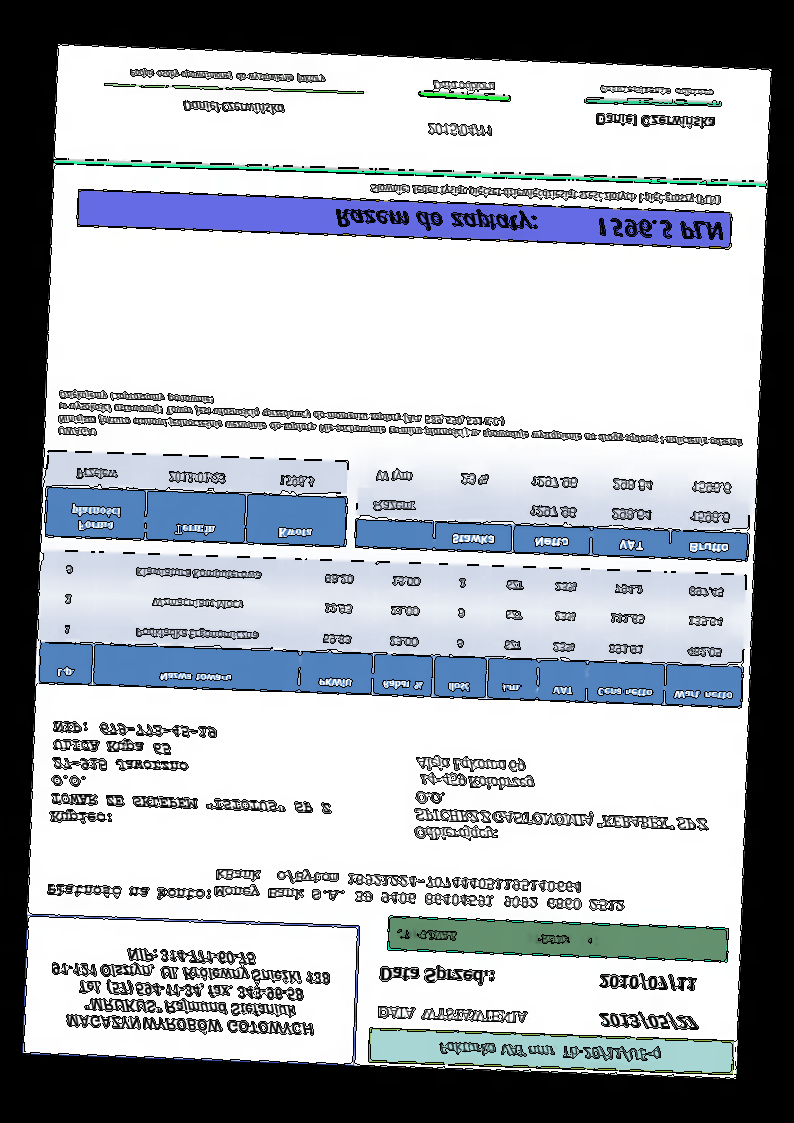Table: (36, 545, 752, 710), (354, 453, 752, 564), (44, 449, 350, 549)
TextBox: (53, 384, 745, 462), (47, 718, 337, 833), (411, 753, 712, 852), (45, 940, 338, 1039), (213, 867, 627, 914), (329, 203, 727, 246), (367, 181, 723, 210), (435, 1036, 665, 1065), (395, 926, 604, 952), (127, 64, 328, 87), (375, 1001, 534, 1029), (42, 881, 215, 905), (377, 963, 497, 989), (592, 109, 717, 132), (592, 1009, 701, 1034), (595, 970, 700, 995), (595, 83, 717, 100), (179, 100, 286, 118), (424, 122, 493, 139), (431, 80, 498, 94)
